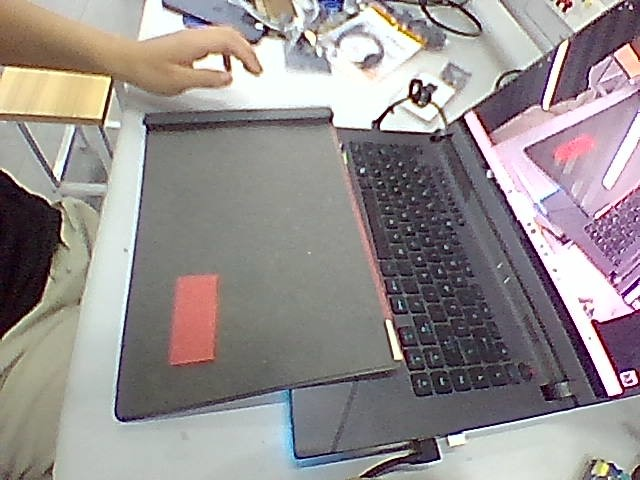card: (169, 276, 218, 365)
